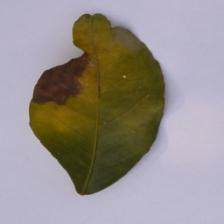black spot: (21, 34, 102, 106)
